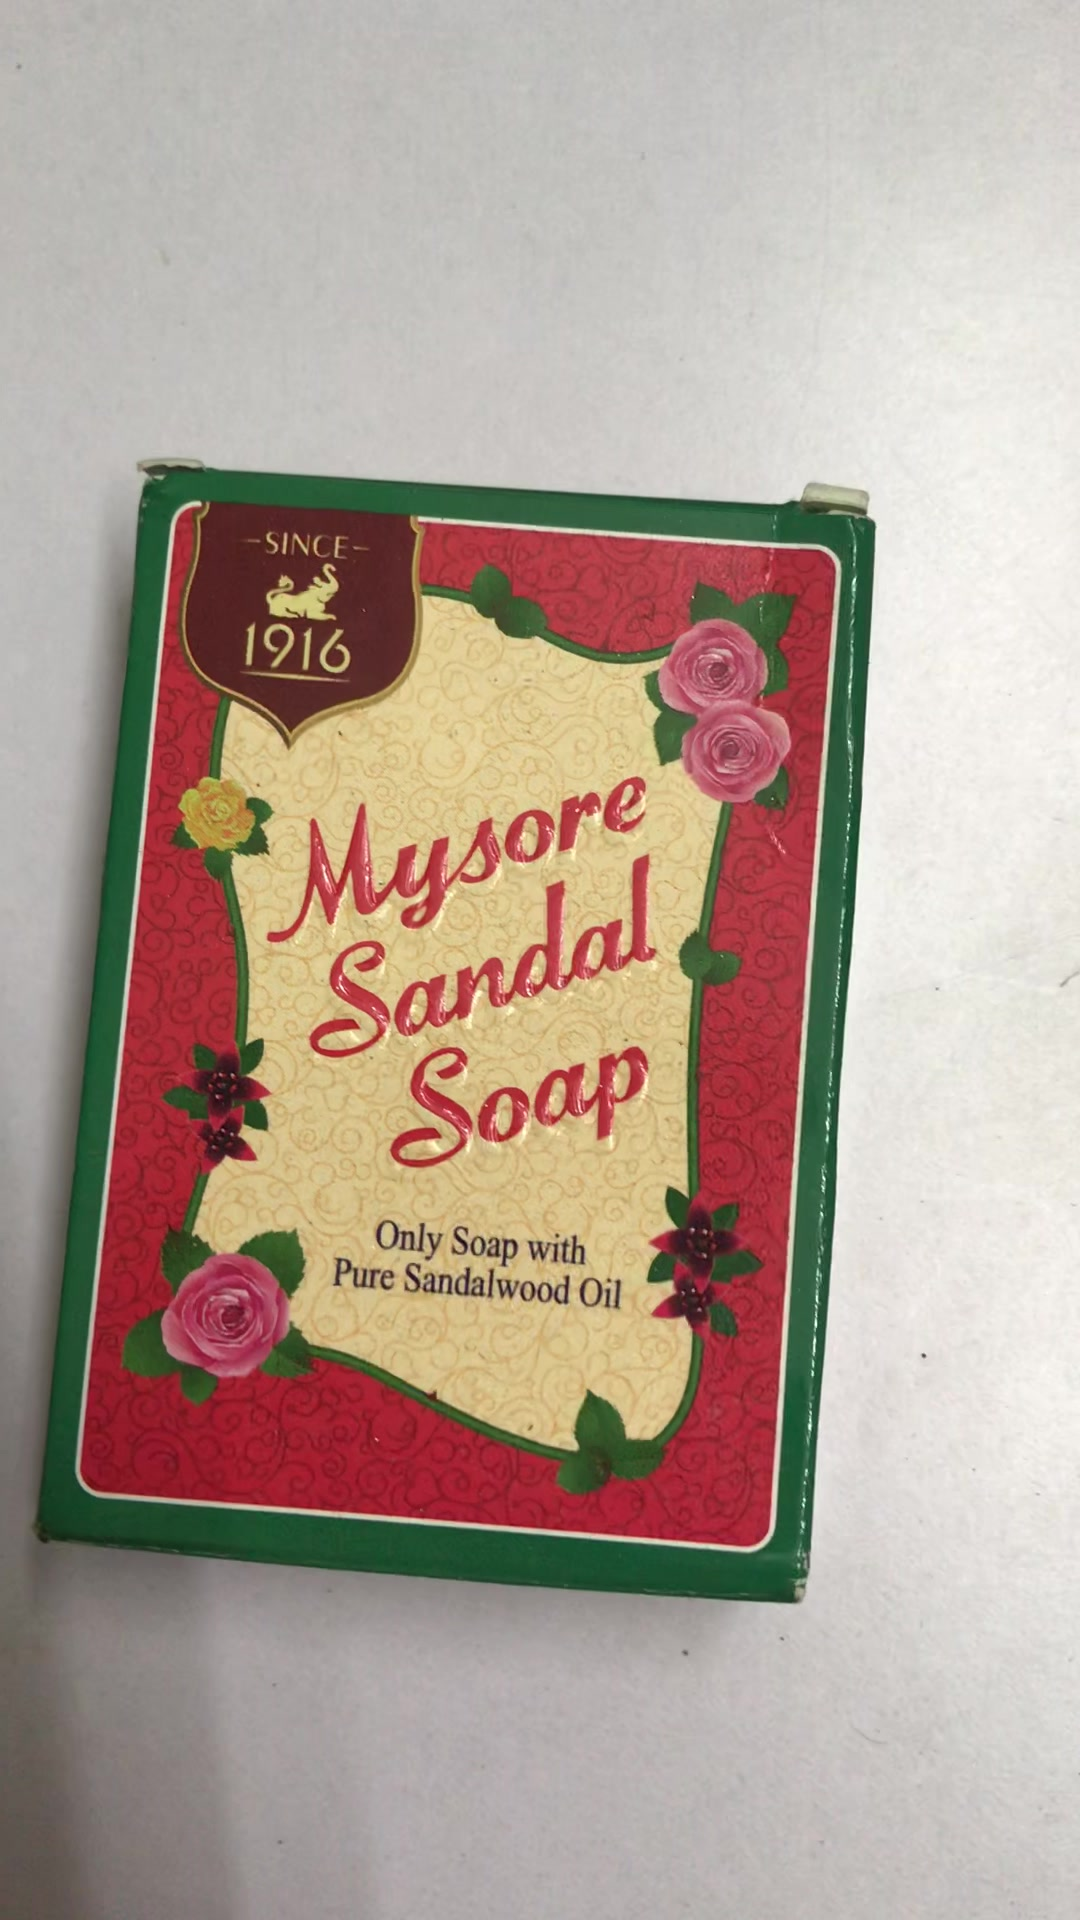mysore sandal soap: (32, 469, 882, 1600)
